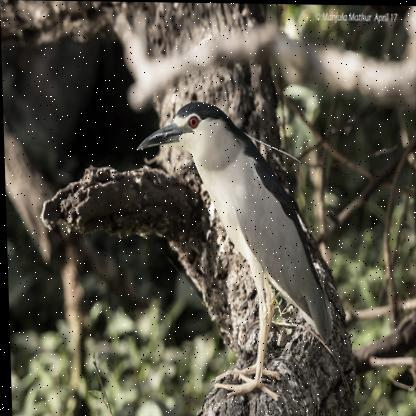Burung: (134, 100, 331, 401)
